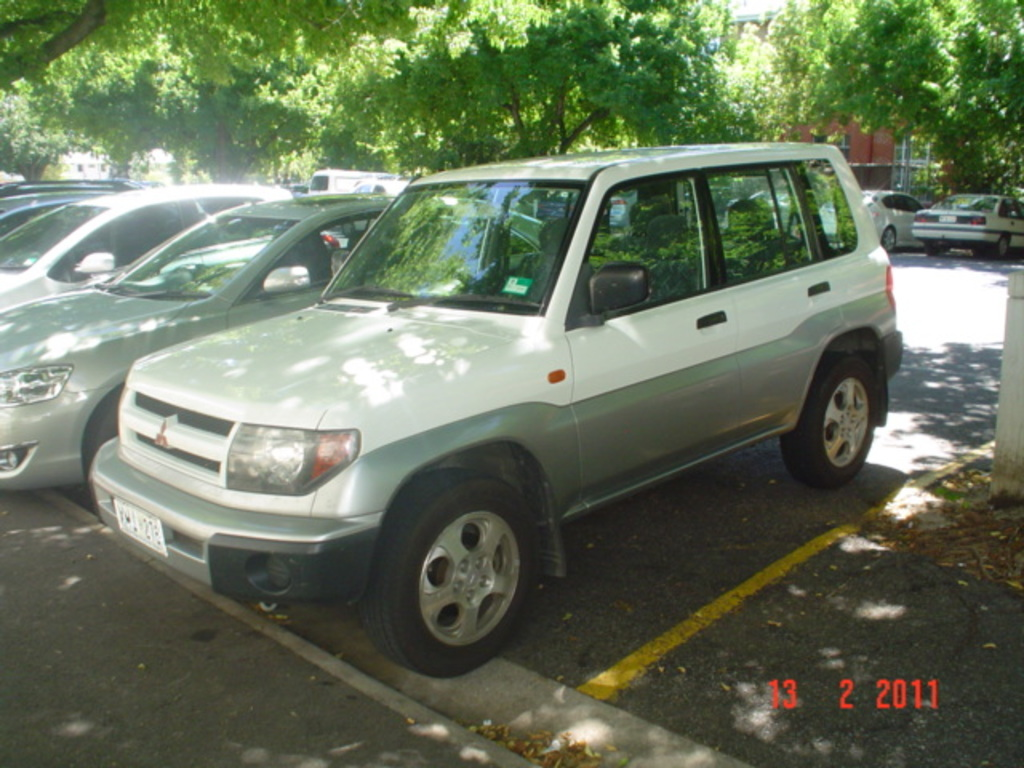mobil: (101, 148, 963, 688)
